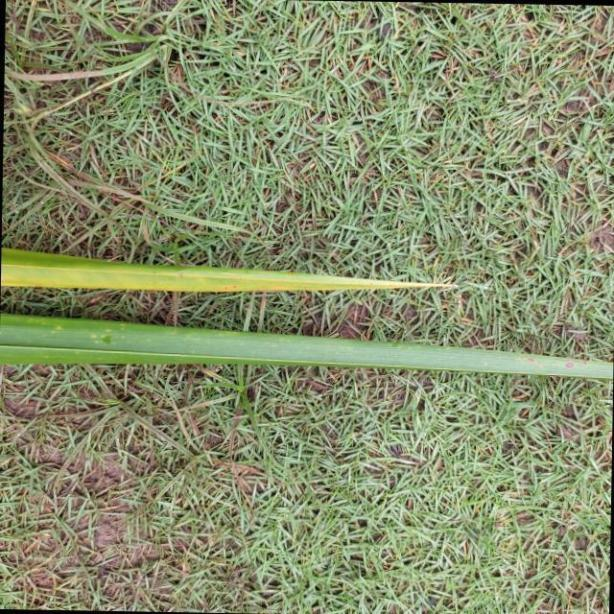nitrogen: (0, 310, 614, 378), (0, 243, 475, 293)
